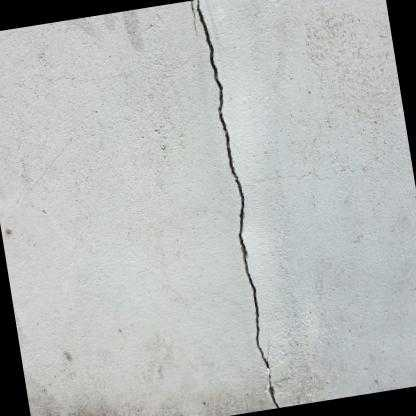crack: (196, 0, 279, 408)
